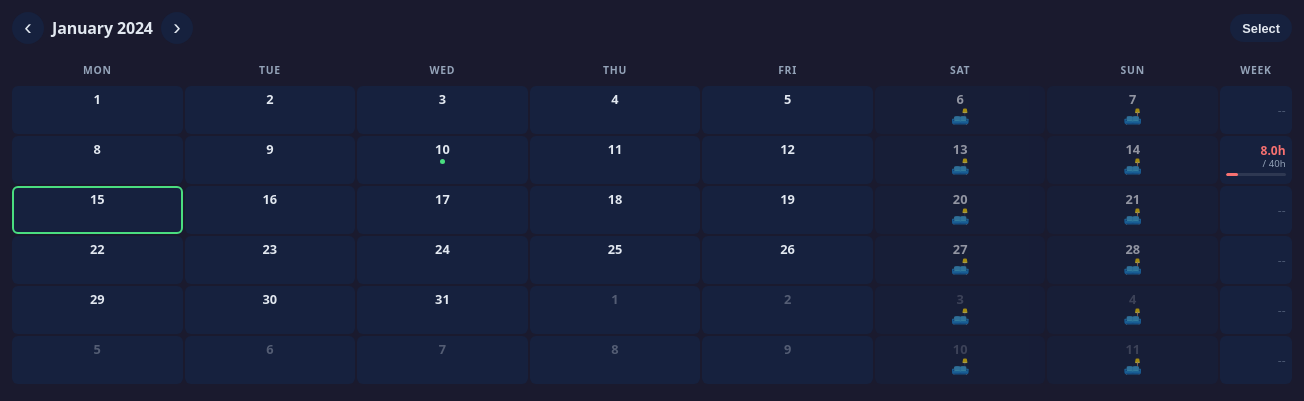
Test: CalendarView › shows a tooltip with hours and session count on hover
The width and height of the screenshot is (1304, 401).
Hover over the button with class "cal-day" showing "10" at (442, 160), box [357,136,528,184]
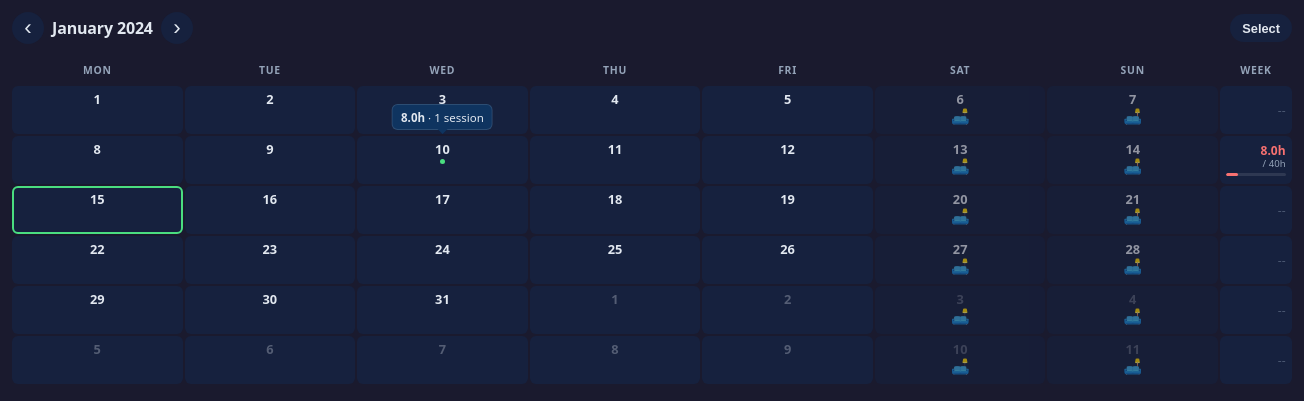
Result: the element with class "cal-day-tooltip" is shown at [392,104,493,130]
Move the pointer off the button with class "cal-day" showing "10 8.0h · 1 session", box [357,136,528,184]
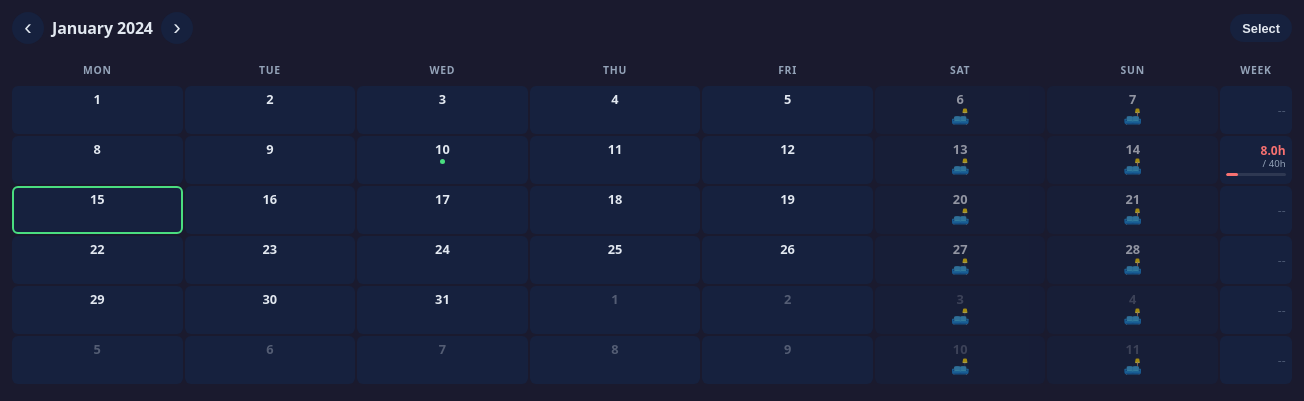
Result: the element with class "cal-day-tooltip" is gone
